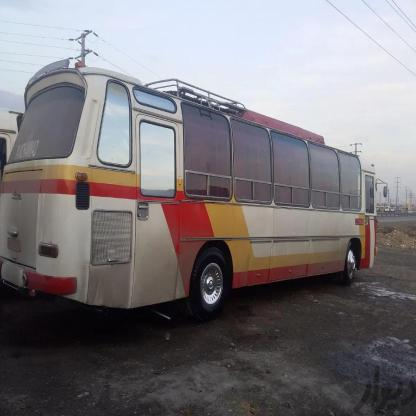Bus: (0, 57, 377, 316)
